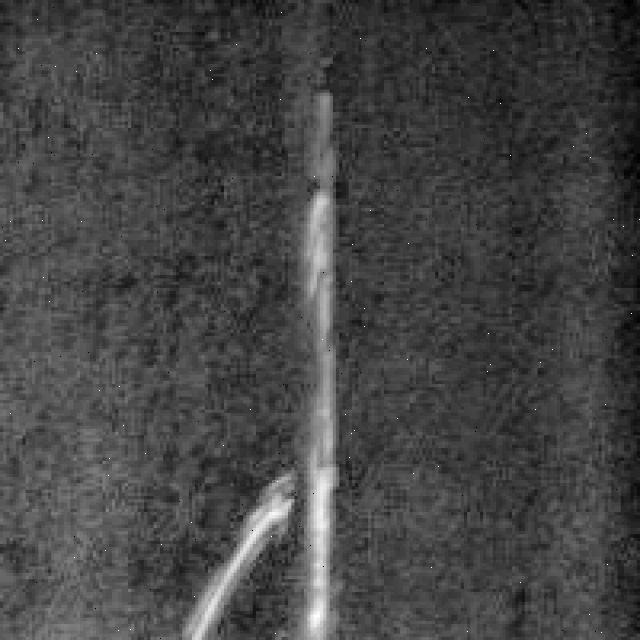Inclusion: (291, 71, 346, 634), (164, 458, 298, 634)
